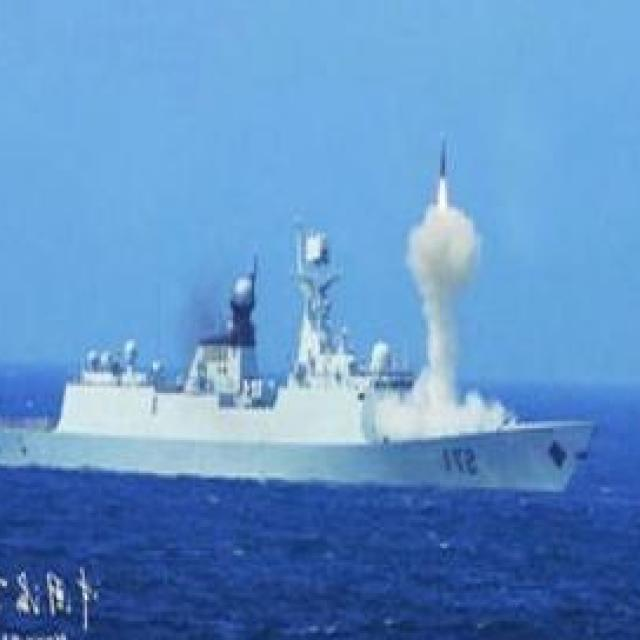navalvessels: (0, 205, 605, 487)
